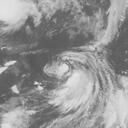cyclone: (42, 44, 98, 112)
